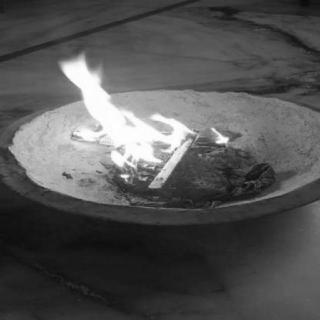Fire: (53, 48, 233, 182)
